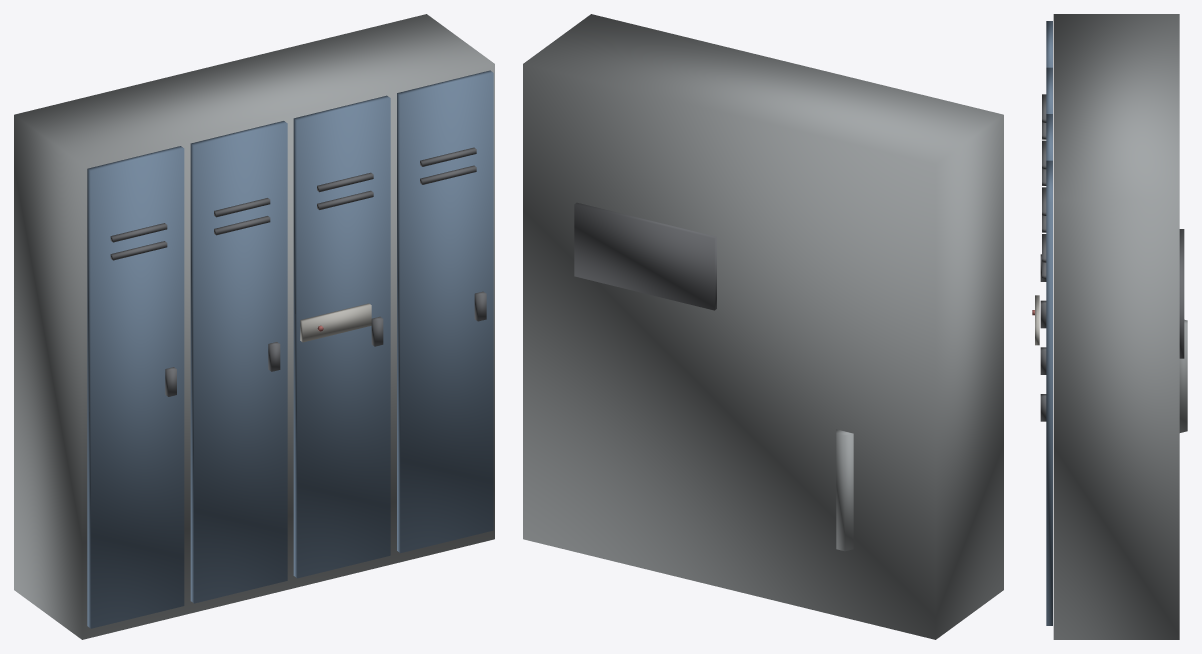
Rendered from property_locker_bank__service.glb.
3 views of the same model, side by side, from view 1: azimuth 30°, elevation 25°; view 2: azimuth 150°, elevation 25°; view 3: azimuth 270°, elevation 25° (orthographic). The views are drawn at different scales.
Visible parts, largest first — view 1: world; view 2: world; view 3: world.
Boxes of the visible parts, bbox=[...] form: world: bbox=[14, 14, 494, 639]; world: bbox=[523, 14, 1003, 639]; world: bbox=[1032, 14, 1187, 639].
Bounding box in the file's own units: 1.68 × 1.85 × 0.5913.
